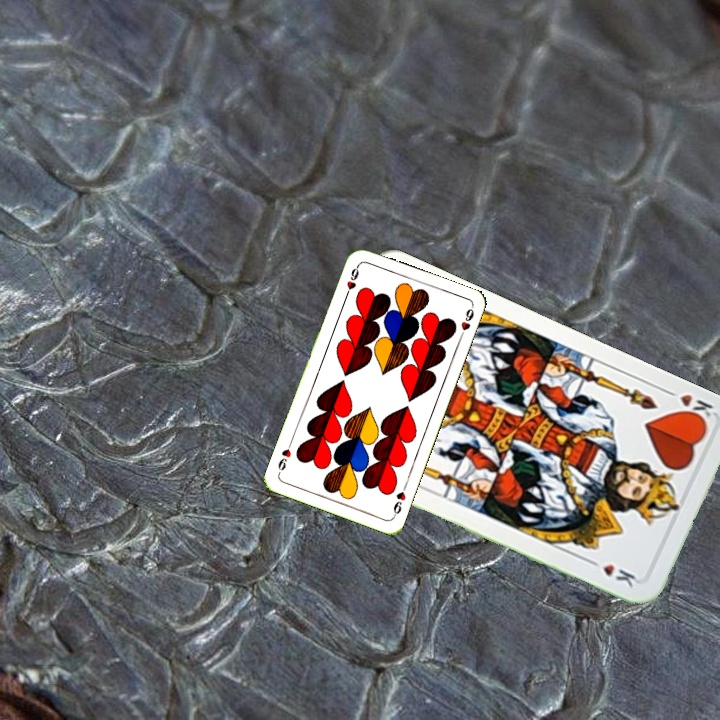H9: (341, 261, 362, 300), (389, 480, 409, 520)
HK: (673, 390, 715, 426)
